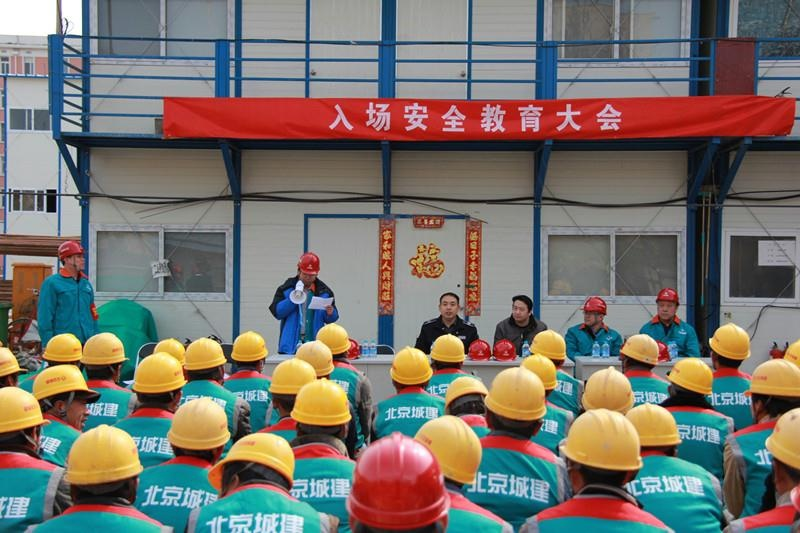none: (437, 289, 461, 322), (509, 295, 534, 325)
red: (345, 434, 447, 533), (54, 238, 88, 275), (653, 286, 681, 322), (295, 248, 321, 286), (579, 295, 609, 327)
yellow: (559, 406, 643, 498), (58, 422, 144, 507), (214, 432, 296, 503), (410, 414, 482, 491), (482, 366, 543, 441), (289, 379, 352, 446), (165, 395, 227, 463), (31, 362, 91, 431), (745, 357, 800, 426), (623, 401, 683, 462), (762, 408, 800, 502), (1, 384, 45, 460), (132, 351, 184, 412), (663, 357, 715, 407), (705, 318, 752, 373), (268, 357, 314, 413), (79, 329, 126, 382), (442, 372, 487, 421), (389, 343, 430, 396), (183, 337, 227, 385), (619, 331, 658, 377), (229, 330, 268, 374), (428, 333, 468, 375), (528, 327, 566, 371), (316, 323, 349, 363)
